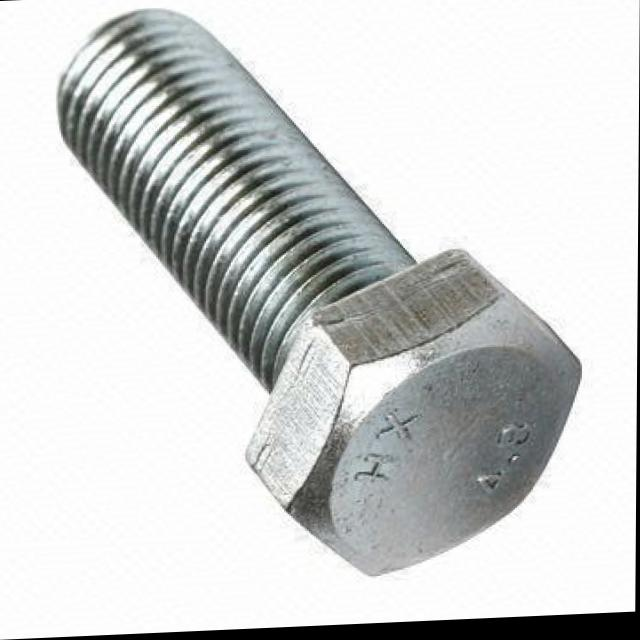Regular bolt: (246, 237, 586, 589)
